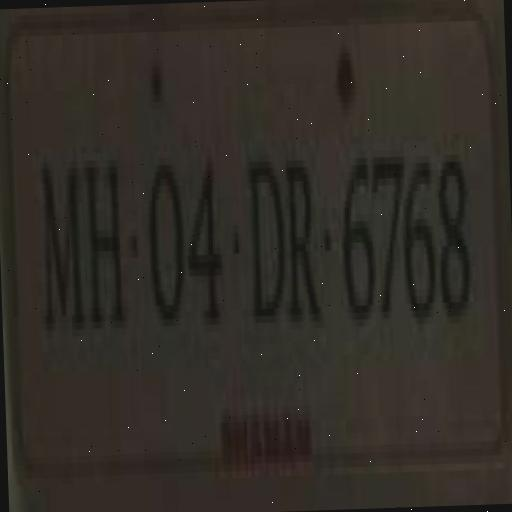number plate: (0, 25, 508, 470)
